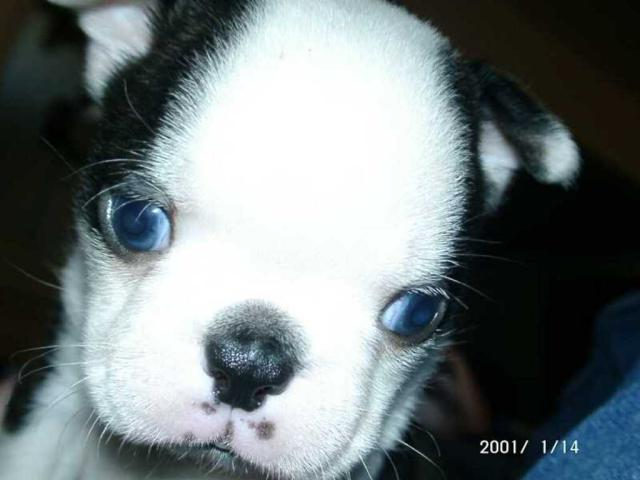Dog: (0, 0, 583, 479)
